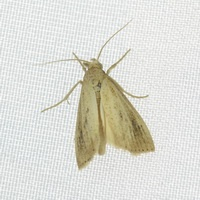insect: (41, 19, 154, 168)
